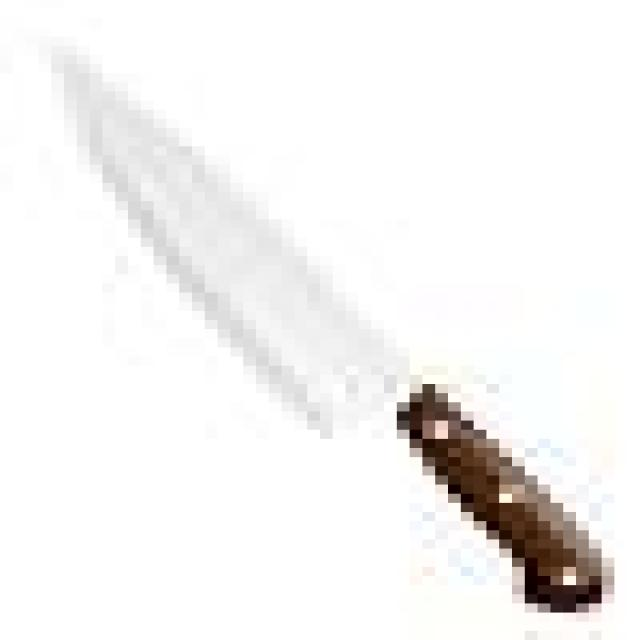knife: (50, 36, 631, 624)
